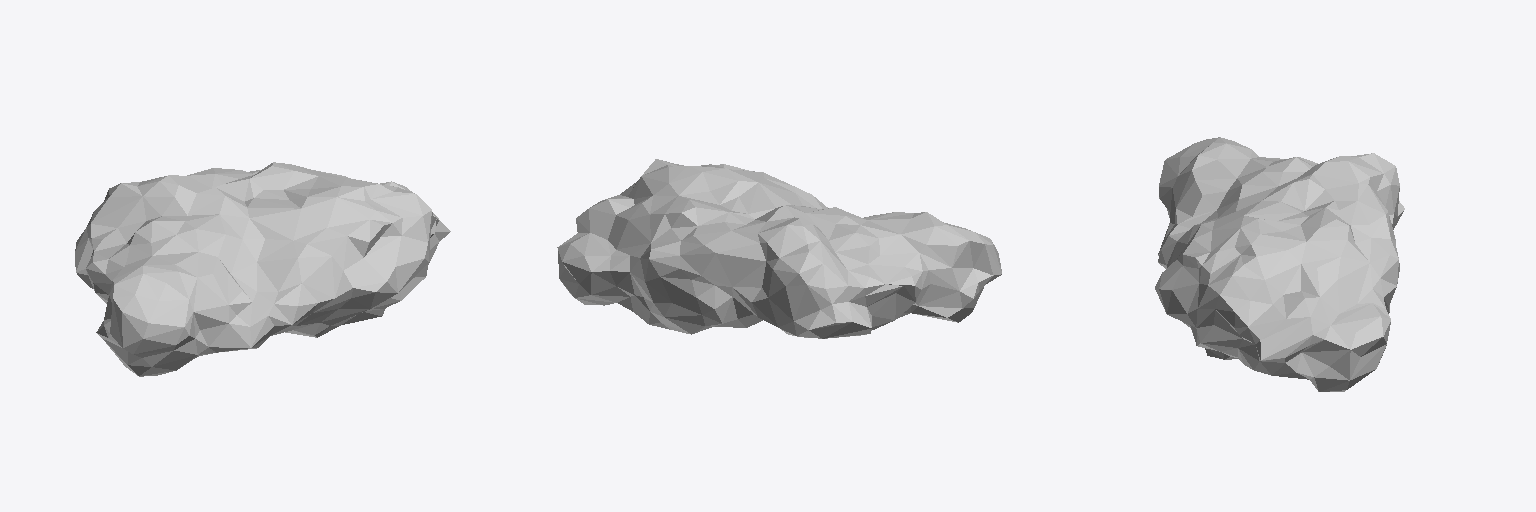
Rendered from Rock Ceiling.obj.
3 views of the same model, side by side, from view 1: azimuth 30°, elevation 25°; view 2: azimuth 150°, elevation 25°; view 3: azimuth 270°, elevation 25° (orthographic).
Parts seen in each view (by area): view 1: SM_Cave_Rock_Ceiling; view 2: SM_Cave_Rock_Ceiling; view 3: SM_Cave_Rock_Ceiling.
Boxes of the visible parts, <box> form: SM_Cave_Rock_Ceiling: <box>75,162,450,376</box>; SM_Cave_Rock_Ceiling: <box>557,159,1001,338</box>; SM_Cave_Rock_Ceiling: <box>1155,137,1404,391</box>.
Bounding box in the file's own units: 1032 × 366 × 603.